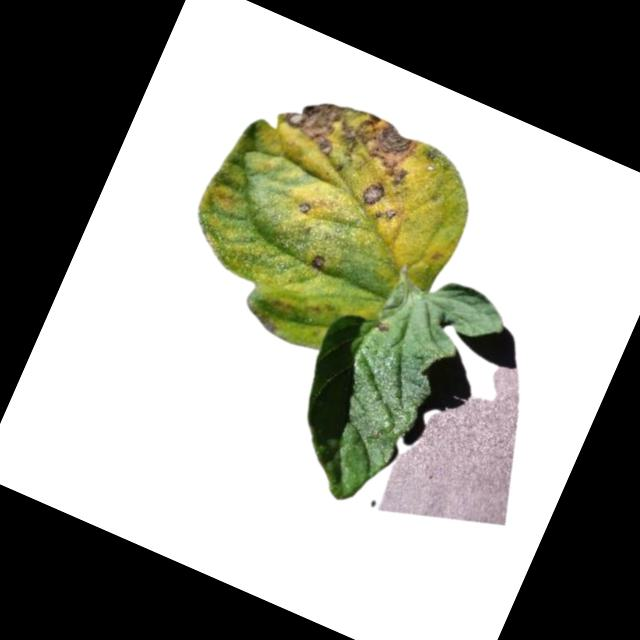Early_blight: (273, 78, 429, 191), (370, 200, 400, 227), (364, 176, 389, 203), (310, 252, 329, 271), (374, 318, 391, 335), (297, 197, 313, 213)
